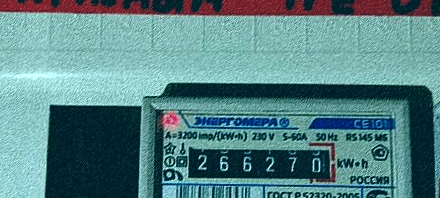0: (307, 155, 319, 172)
2: (192, 151, 205, 169), (261, 153, 272, 171)
6: (215, 152, 227, 170), (238, 154, 250, 172)
7: (284, 153, 295, 171)
screen: (175, 136, 338, 187)
